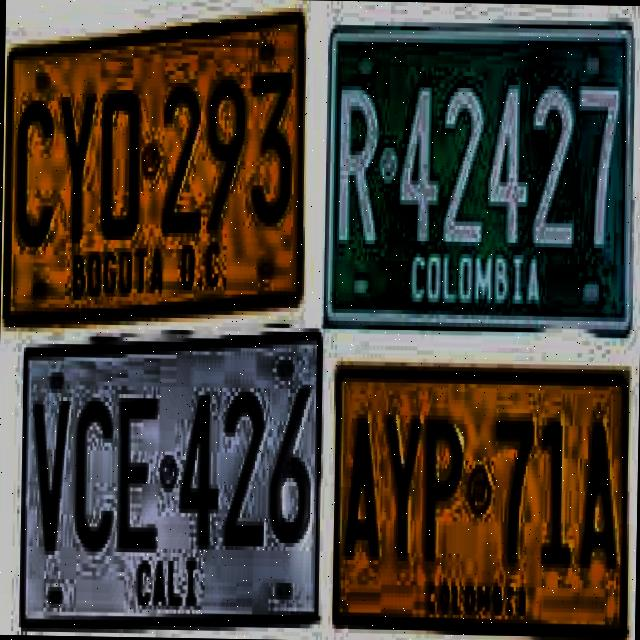plate: (5, 21, 300, 319), (329, 34, 629, 325), (23, 336, 321, 622), (336, 369, 626, 634)
